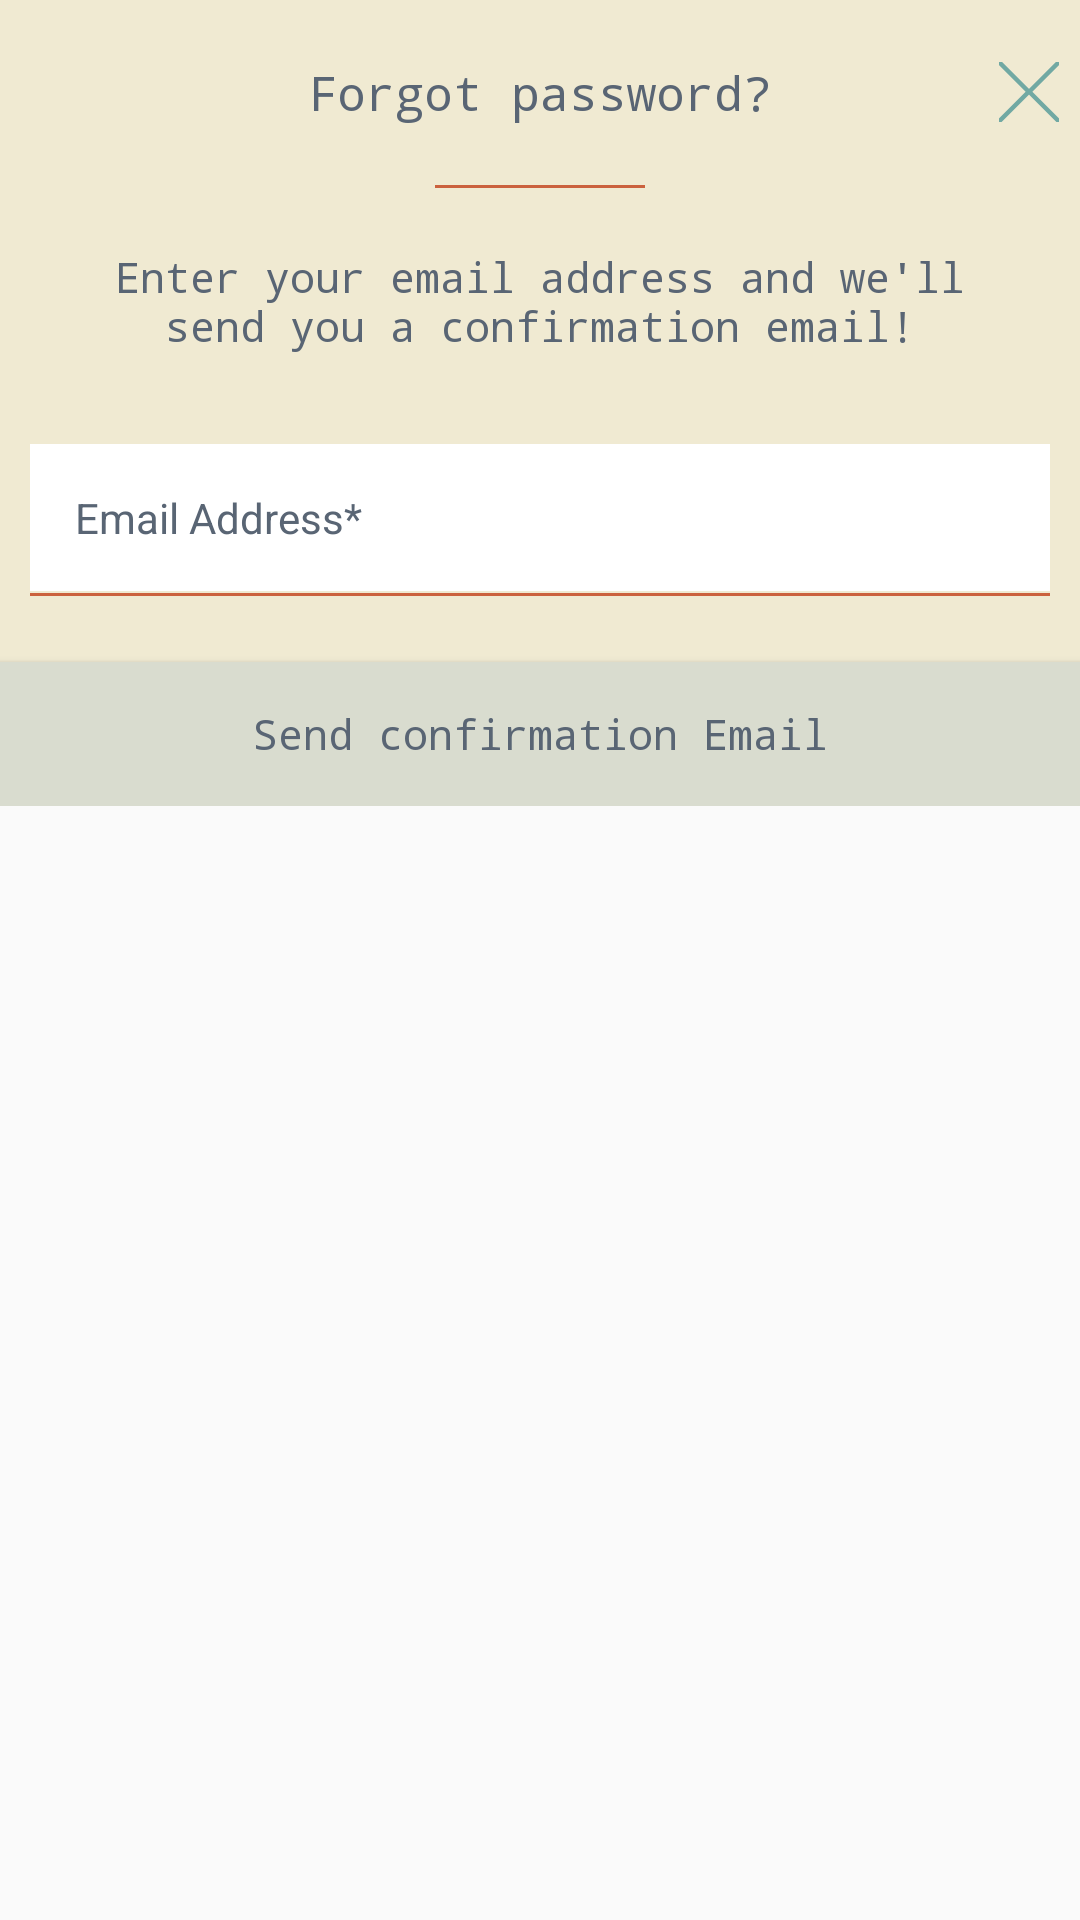

Icon click points for this 1080 × 1920 phone screenshot, format (x=x, y=y):
cancel: (x=1029, y=92)
